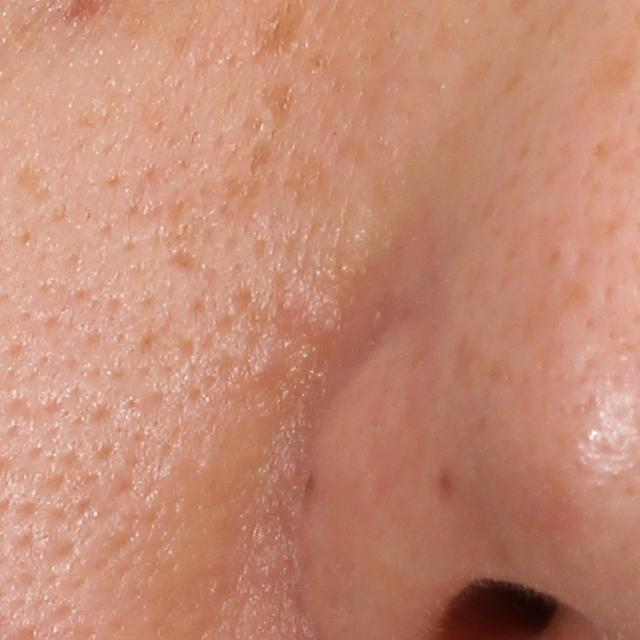atrophic_scar: (14, 163, 59, 206)
melasma: (213, 136, 275, 220), (256, 73, 302, 126)
